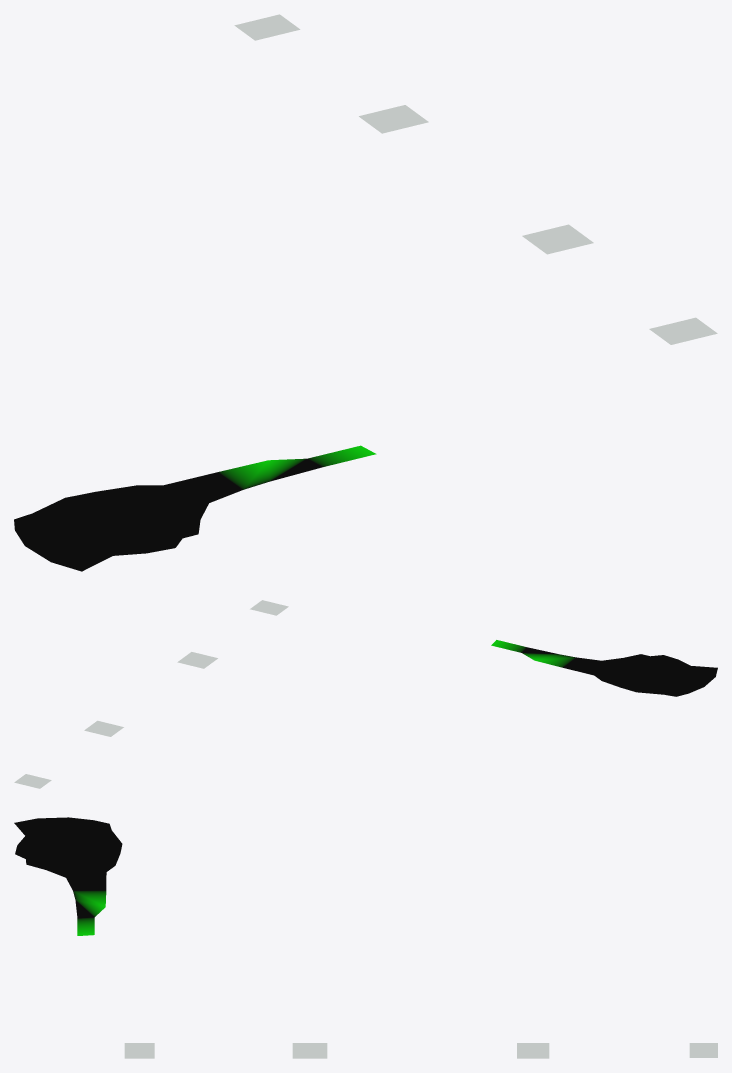
3 renders of one model, top to bottom at view 1: azimuth 30°, elevation 25°; view 2: azimuth 150°, elevation 25°; view 3: azimuth 270°, elevation 25°, orthographic. The views are drawn at different scales.
Parts seen in each view (by area): view 1: G:\FFXIV-MapTools\exports\e3ec\bg\ex2\02_est_e3\evt\e3ec\bgp (×2); view 2: G:\FFXIV-MapTools\exports\e3ec\bg\ex2\02_est_e3\evt\e3ec\bgp (×2); view 3: G:\FFXIV-MapTools\exports\e3ec\bg\ex2\02_est_e3\evt\e3ec\bgp (×2).
Boxes of the visible parts, x1,y1,x2,y2 form: G:\FFXIV-MapTools\exports\e3ec\bg\ex2\02_est_e3\evt\e3ec\bgp (×2): (14,14,717,571); G:\FFXIV-MapTools\exports\e3ec\bg\ex2\02_est_e3\evt\e3ec\bgp (×2): (14,600,717,788); G:\FFXIV-MapTools\exports\e3ec\bg\ex2\02_est_e3\evt\e3ec\bgp (×2): (14,817,717,1058).
Size of the model in its own units: 108 by 0.4683 by 132.
